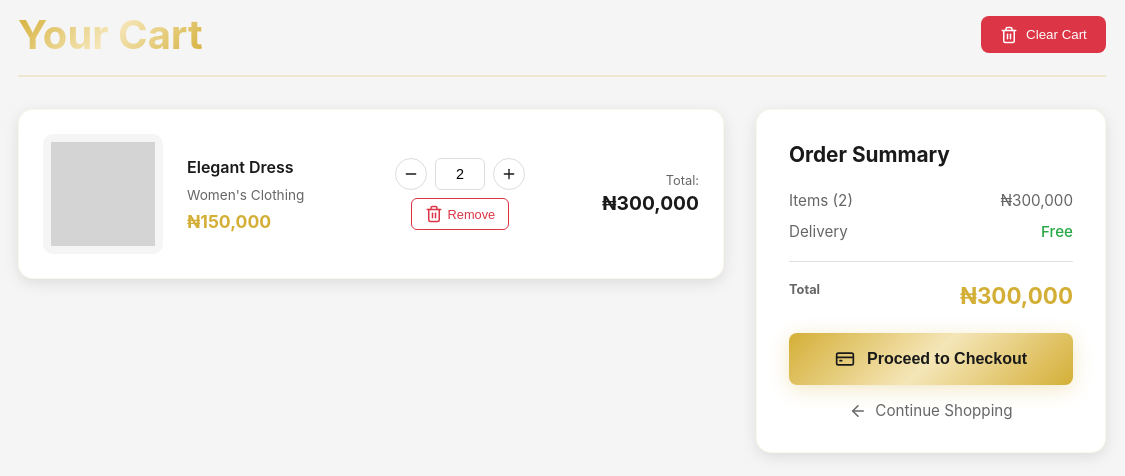
Test: Cart Page › removes item when decrement to zero
The width and height of the screenshot is (1125, 476).
Click the button named "Decrease quantity": (411, 174) [395,158,427,190]
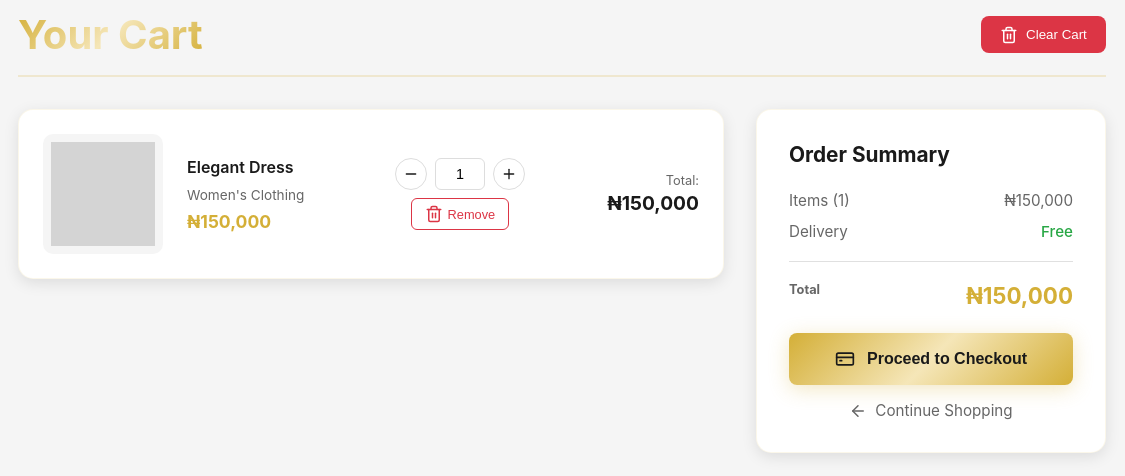
Click the button named "Decrease quantity": (411, 174) [395,158,427,190]
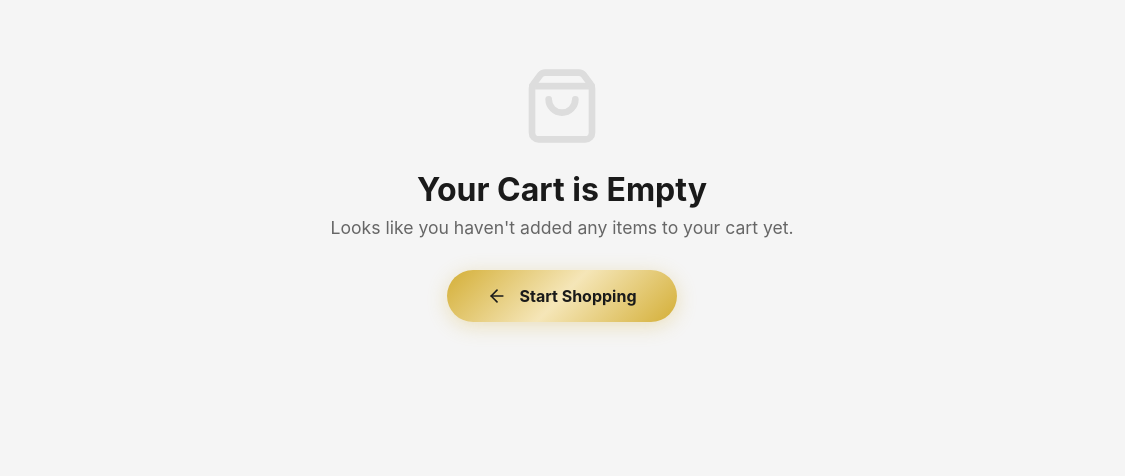
Now the heading "Your Cart is Empty" is shown, box [417,170,707,209]
